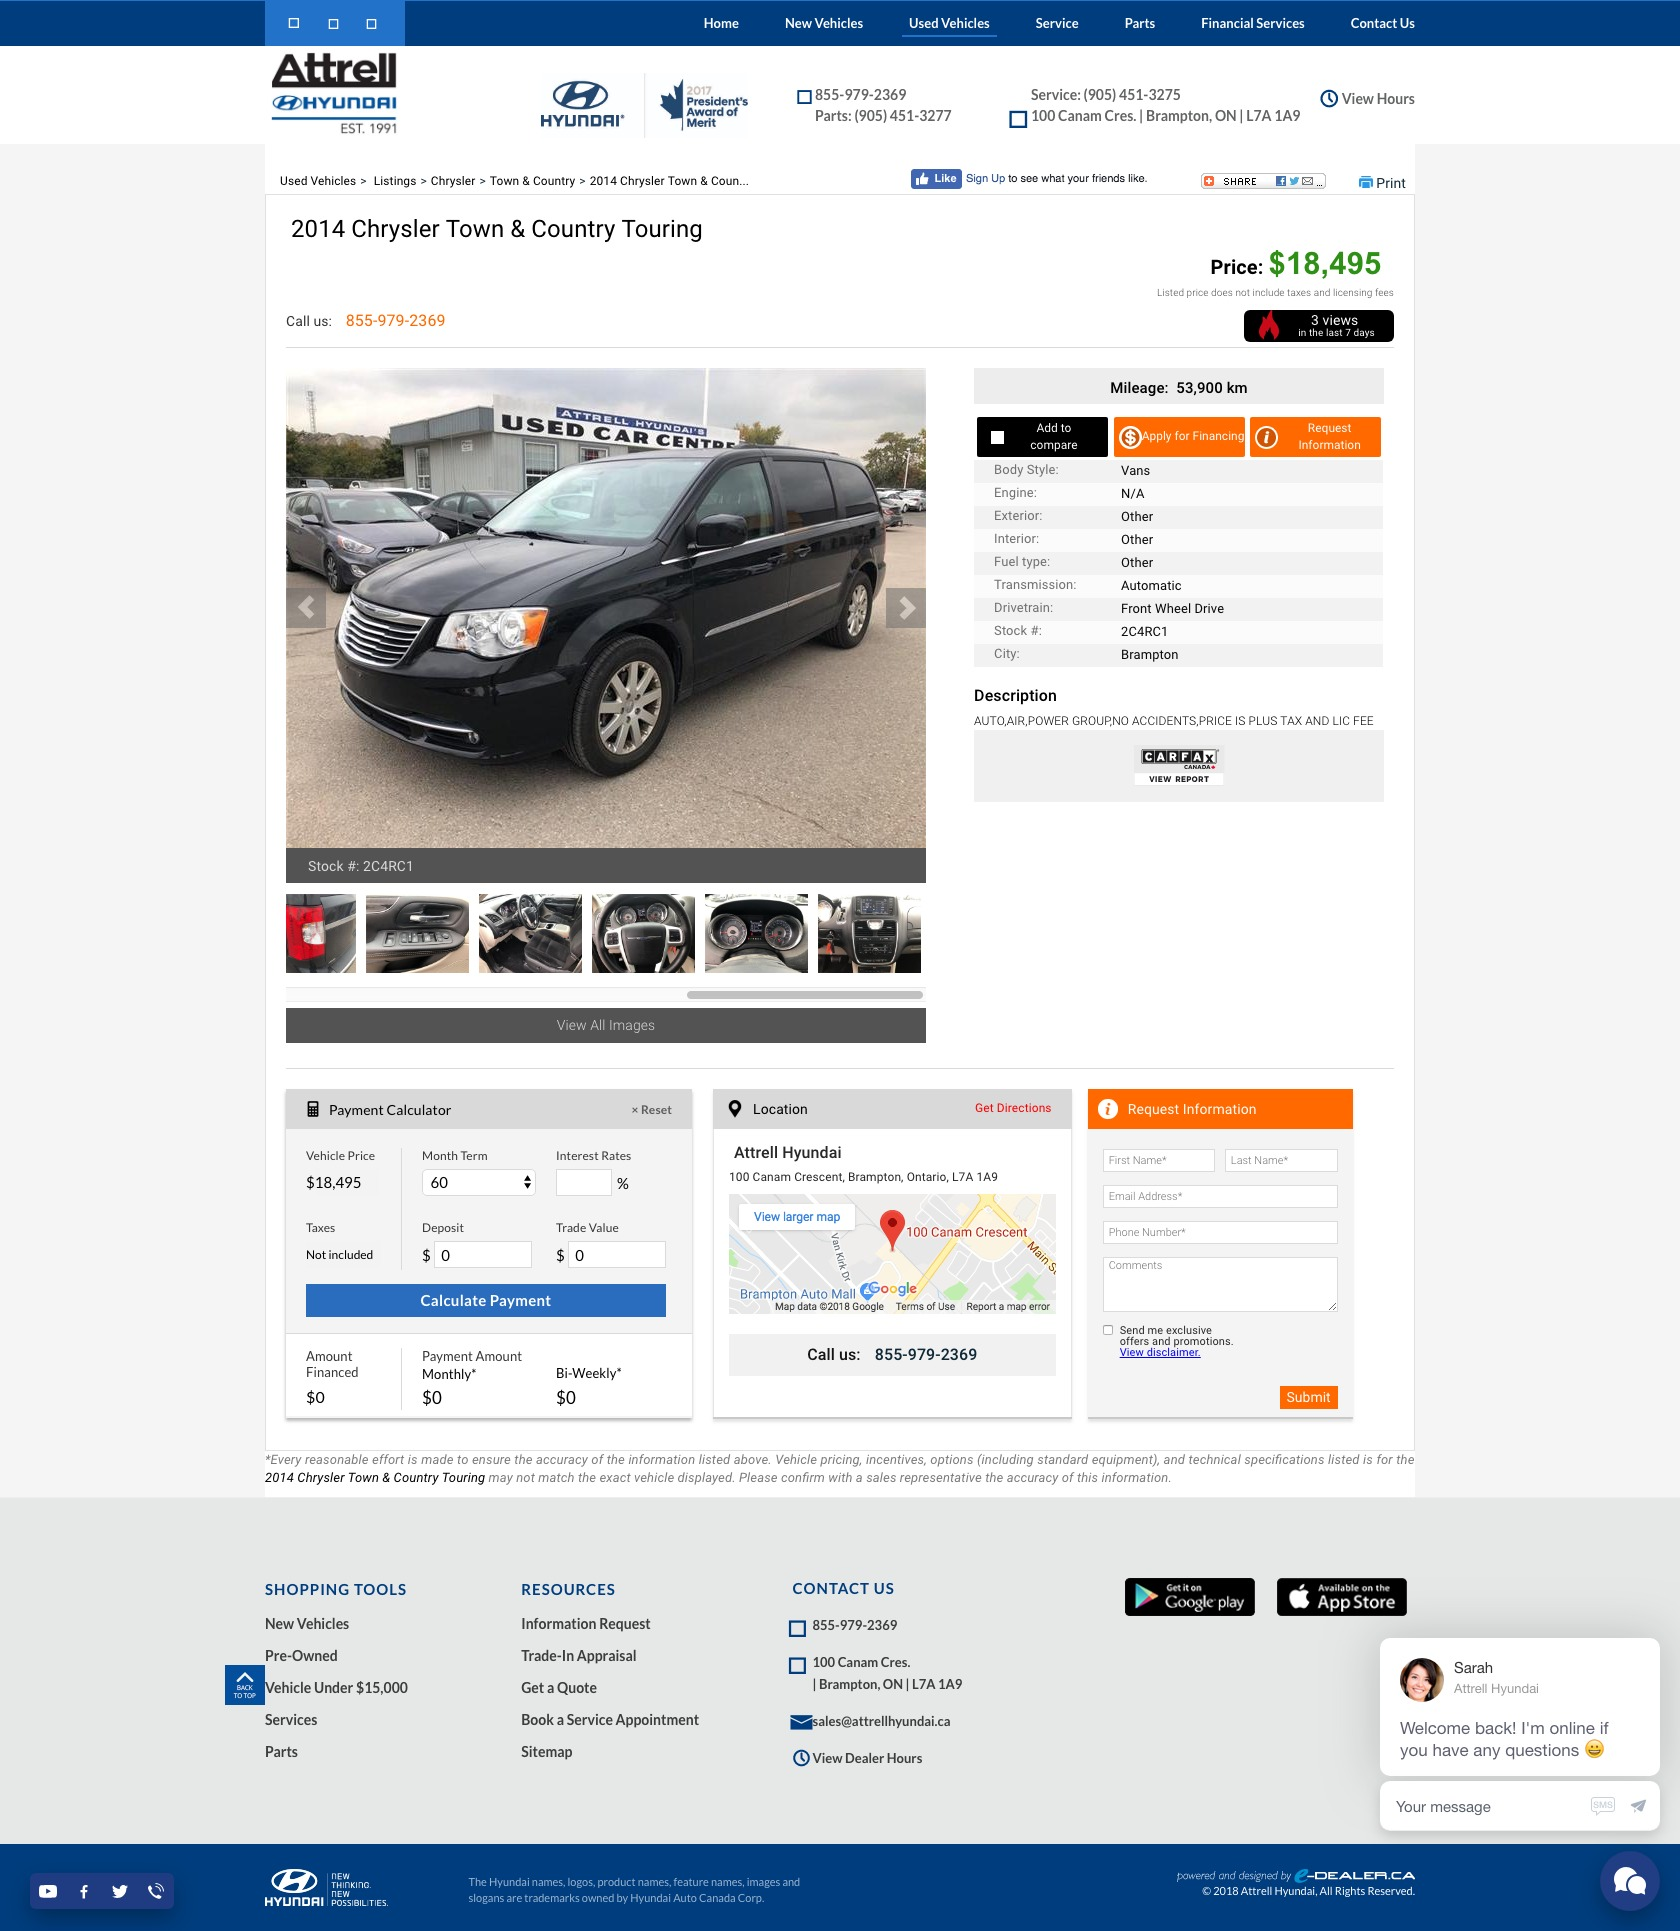car: (885, 588, 926, 631)
